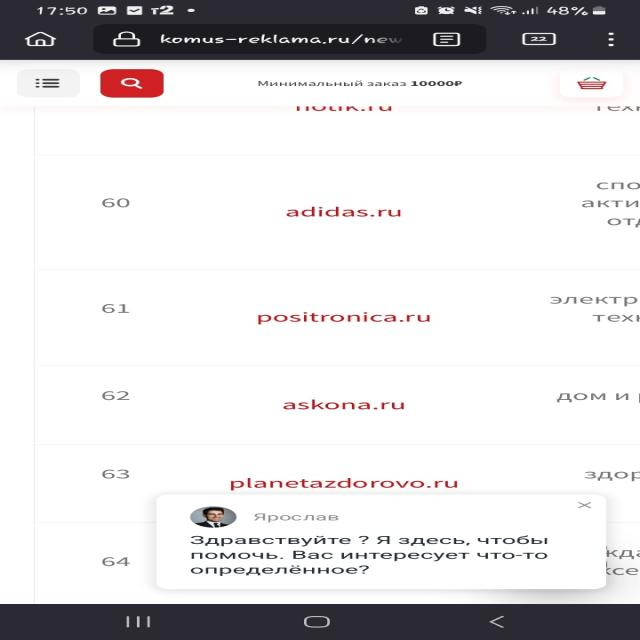button: (571, 500, 602, 510)
site: (156, 494, 607, 590)
